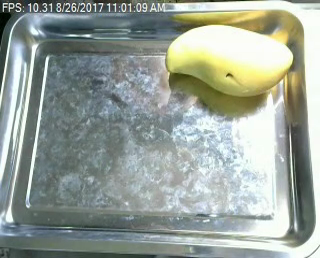Mango: (164, 21, 300, 101)
